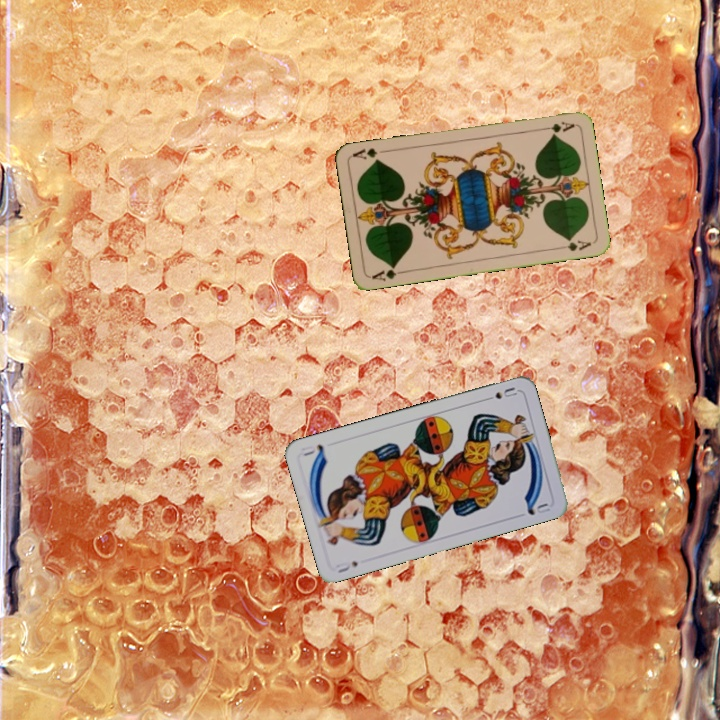GA: (368, 261, 408, 283), (536, 117, 577, 135)
SU: (480, 383, 519, 404), (332, 557, 361, 575)
